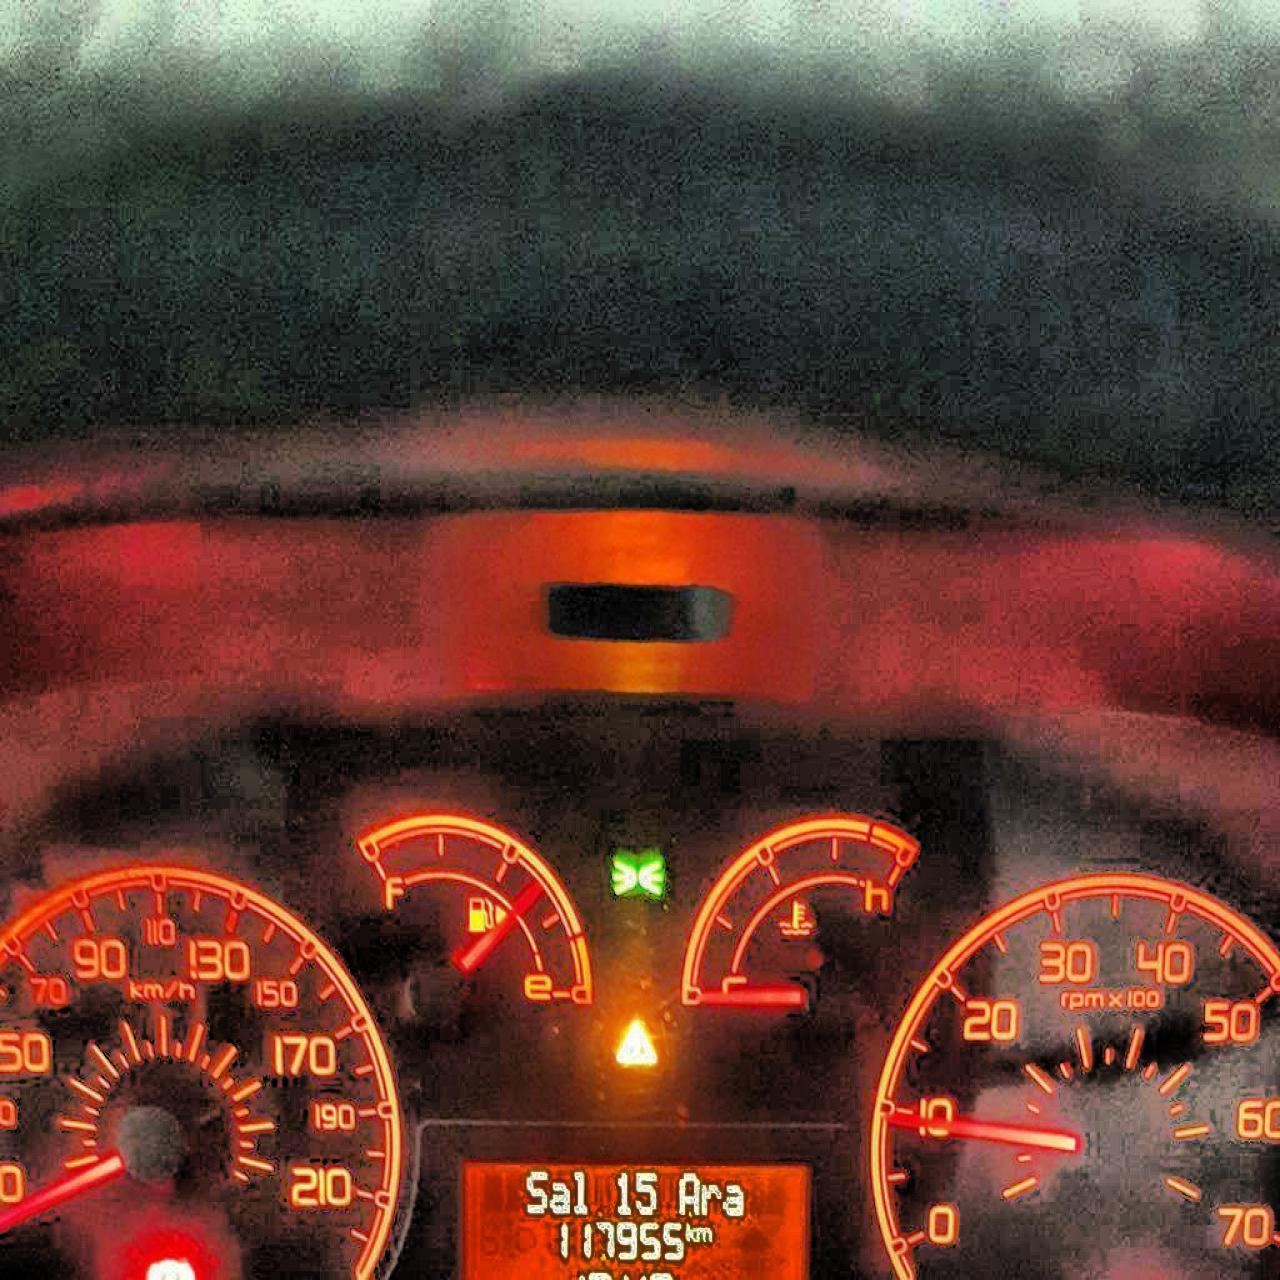1: (611, 1166, 629, 1218), (554, 1219, 571, 1261), (579, 1219, 591, 1261)
5: (633, 1166, 659, 1216), (661, 1216, 683, 1261), (639, 1218, 659, 1261)
7: (595, 1218, 617, 1258)
9: (615, 1218, 636, 1261)
X: (524, 1166, 546, 1217), (676, 1170, 700, 1216), (700, 1180, 721, 1217), (550, 1177, 570, 1214), (722, 1182, 742, 1217), (572, 1167, 587, 1213), (695, 1223, 712, 1241), (685, 1219, 695, 1242)
odometer: (451, 1145, 817, 1279)
